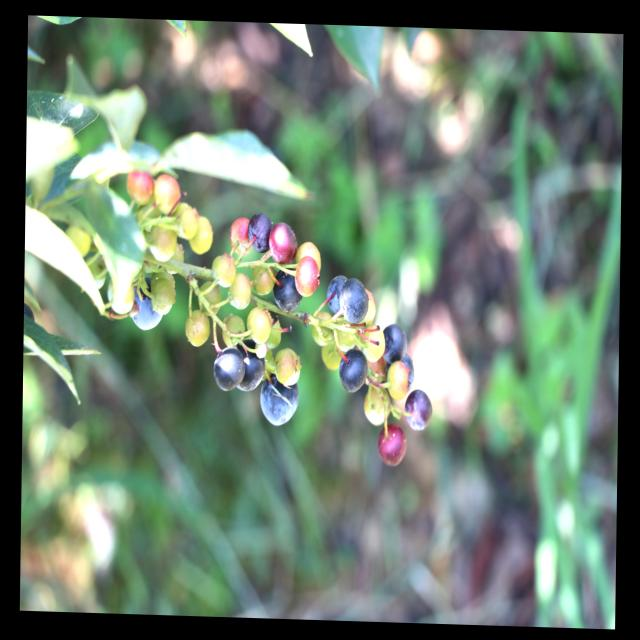blueberry: (128, 275, 164, 332), (260, 373, 300, 424), (211, 344, 246, 394), (234, 339, 266, 392), (338, 345, 368, 394), (339, 276, 369, 324), (403, 388, 433, 432), (273, 271, 304, 313), (382, 322, 406, 364), (249, 211, 272, 252), (389, 354, 415, 390), (326, 273, 348, 315)
blueberry-halfripe: (227, 215, 257, 256), (152, 172, 179, 217), (380, 422, 406, 466), (124, 167, 154, 205), (294, 257, 320, 298), (271, 222, 295, 264)
blueberry-unripe: (148, 219, 178, 264), (273, 346, 302, 388), (183, 309, 211, 349), (364, 382, 390, 425), (151, 268, 174, 316), (245, 305, 271, 346), (310, 306, 334, 346), (220, 312, 245, 350), (197, 280, 223, 316), (227, 272, 251, 311), (250, 258, 274, 296), (213, 251, 237, 288), (361, 322, 383, 361), (189, 219, 214, 253), (336, 316, 358, 352), (176, 207, 197, 243)
